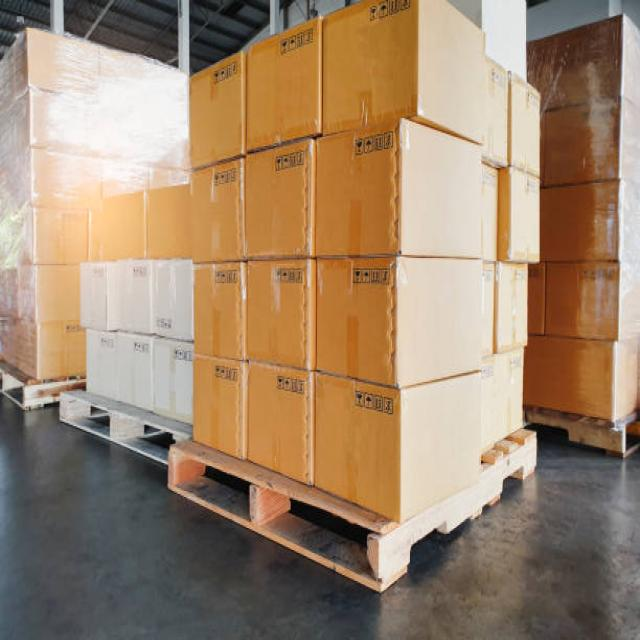Wooden-Pallets: (157, 417, 541, 602), (52, 380, 179, 470)
